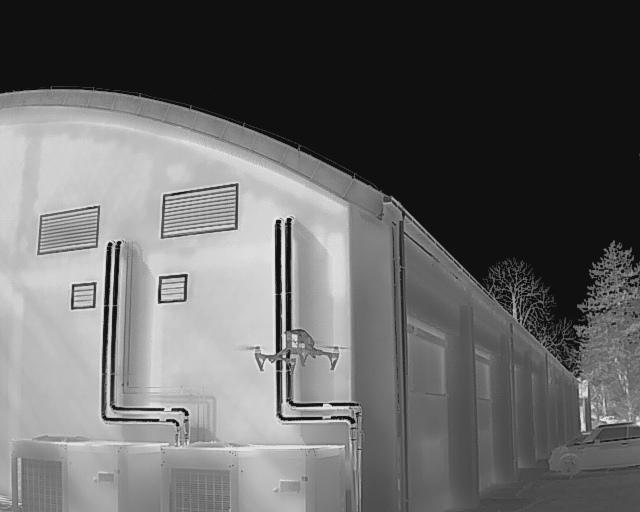drone: (238, 316, 353, 382)
